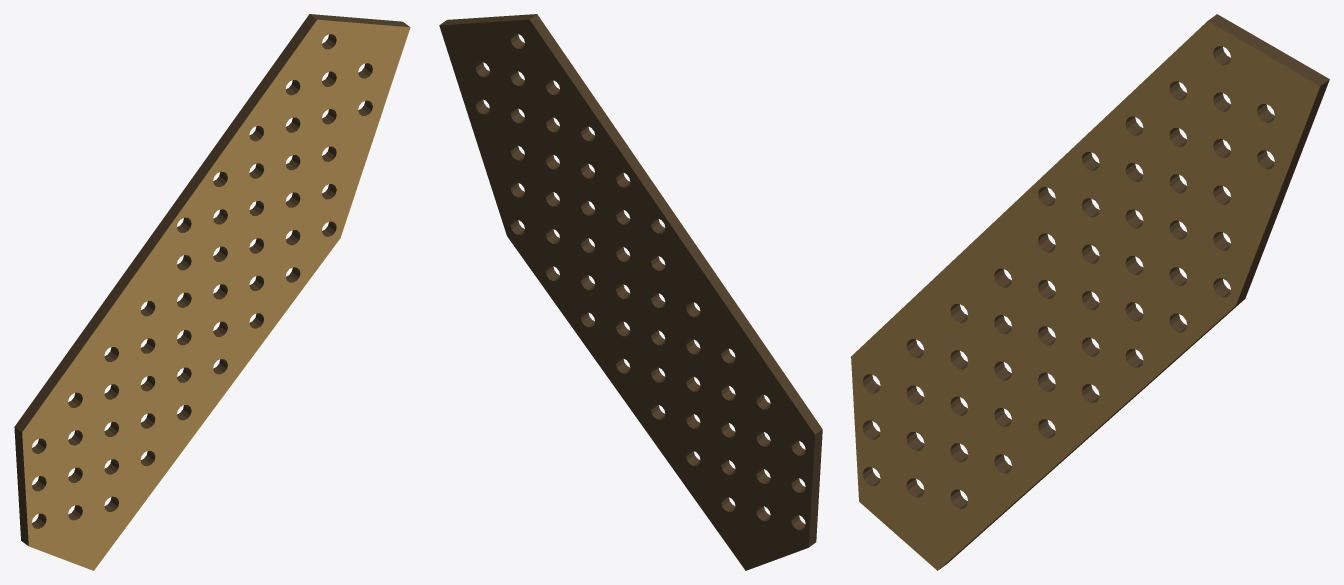
The model's file is 13-nw-gold-backing-01-6daaac6c79a0.glb.
3 views of the same model, side by side, from view 1: azimuth 30°, elevation 25°; view 2: azimuth 150°, elevation 25°; view 3: azimuth 330°, elevation 25° (orthographic). The views are drawn at different scales.
Visible parts, largest first — view 1: NW_GOLD_BACKING_01; view 2: NW_GOLD_BACKING_01; view 3: NW_GOLD_BACKING_01.
Boxes of the visible parts, x1,y1,x2,y2 form: NW_GOLD_BACKING_01: (14,14,410,570); NW_GOLD_BACKING_01: (439,14,822,570); NW_GOLD_BACKING_01: (851,14,1329,570).
Bounding box in the file's own units: 2.33 × 2.9 × 0.1325.
